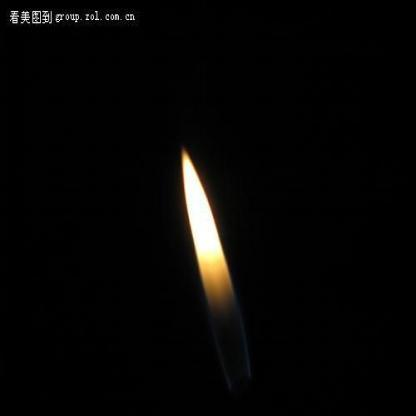fire: (181, 148, 238, 318)
